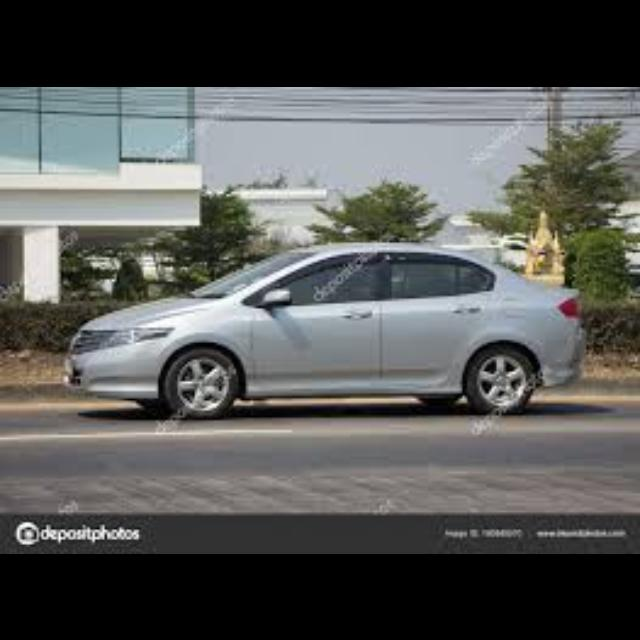vehicles: (48, 232, 596, 424)
